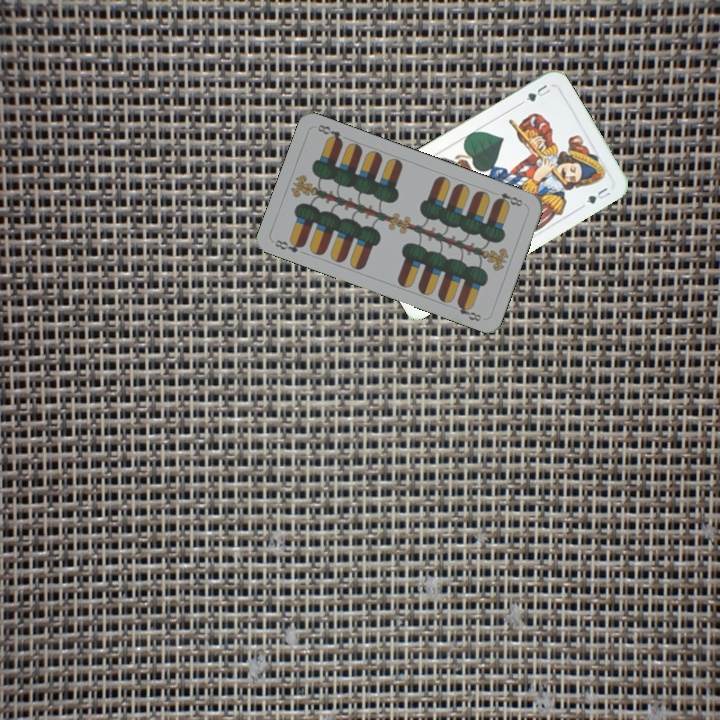E8: (270, 235, 308, 256), (491, 188, 528, 209)
GU: (517, 80, 553, 107)
